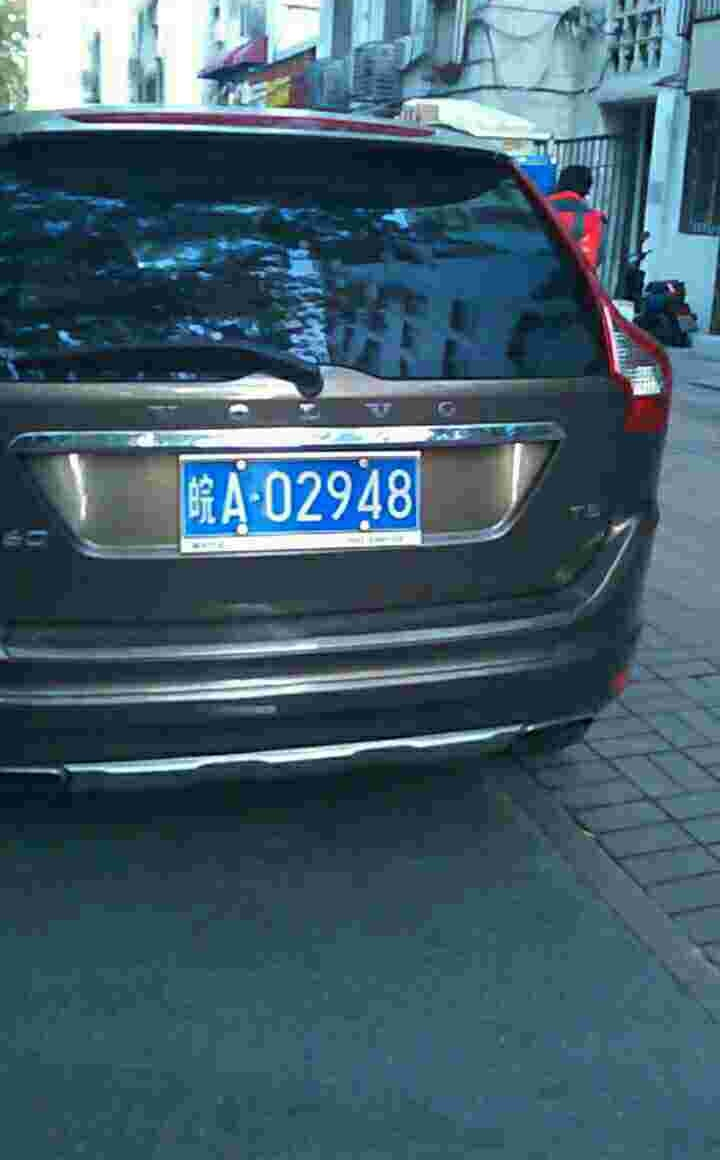license_plate: (190, 456, 421, 544)
